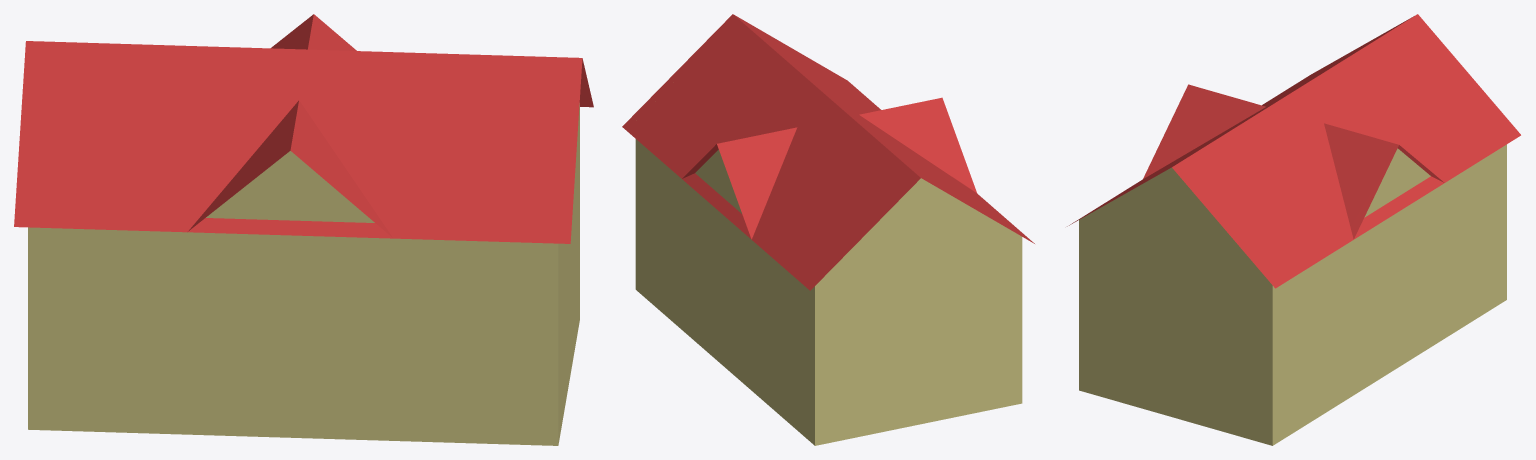
The picture shows the model from 3 angles, left to right: view 1: azimuth 30°, elevation 25°; view 2: azimuth 150°, elevation 25°; view 3: azimuth 270°, elevation 25°; orthographic projection. The views are drawn at different scales.
Bounding box in the file's own units: 24.37 × 22.01 × 13.55.
